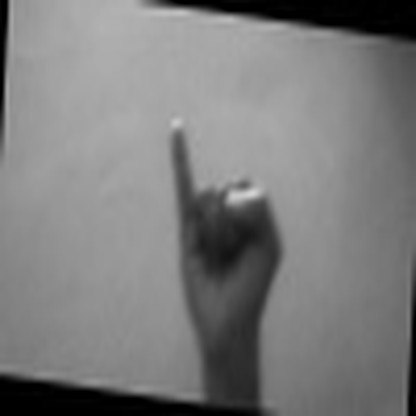i: (155, 102, 288, 337)
